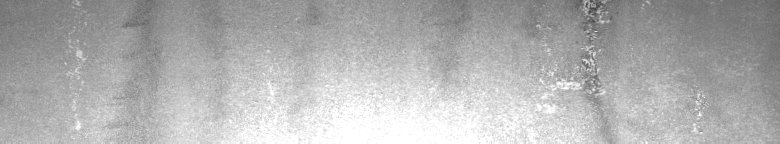hc: (536, 4, 613, 100)
